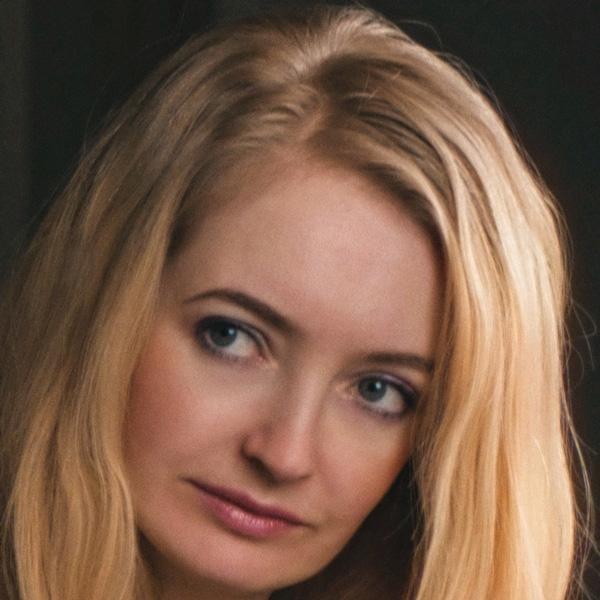Eyes: (185, 301, 276, 374), (336, 365, 421, 430)
